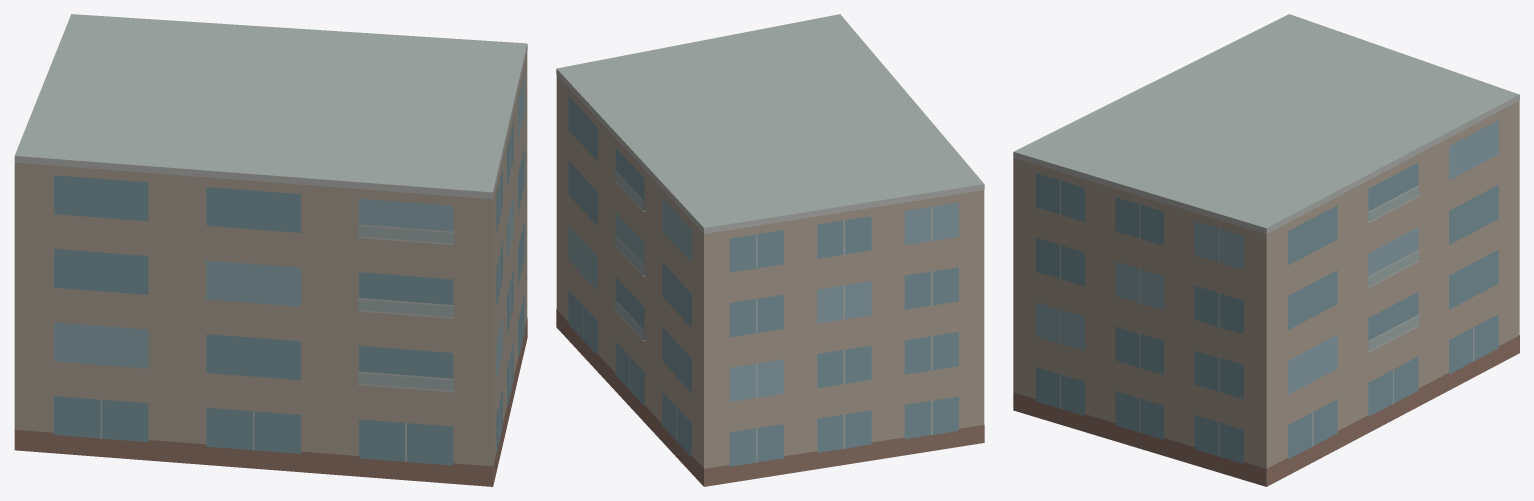
Rendered from survey-upis-32506549.glb.
The picture shows the model from 3 angles, left to right: view 1: azimuth 30°, elevation 25°; view 2: azimuth 150°, elevation 25°; view 3: azimuth 270°, elevation 25°; orthographic projection. The views are drawn at different scales.
Parts seen in each view (by area): view 1: survey-upis-32506549.tmp; view 2: survey-upis-32506549.tmp; view 3: survey-upis-32506549.tmp.
Part boxes in pixels (<box>): survey-upis-32506549.tmp: <box>14,14,527,486</box>; survey-upis-32506549.tmp: <box>556,14,984,486</box>; survey-upis-32506549.tmp: <box>1013,14,1519,486</box>.
Bounding box in the file's own units: 18.85 × 10.6 × 18.82.
